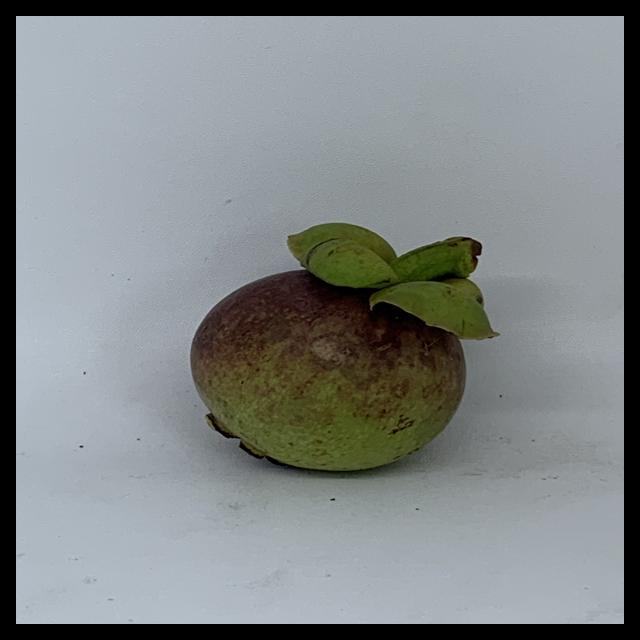mangosteen: (179, 220, 499, 520)
